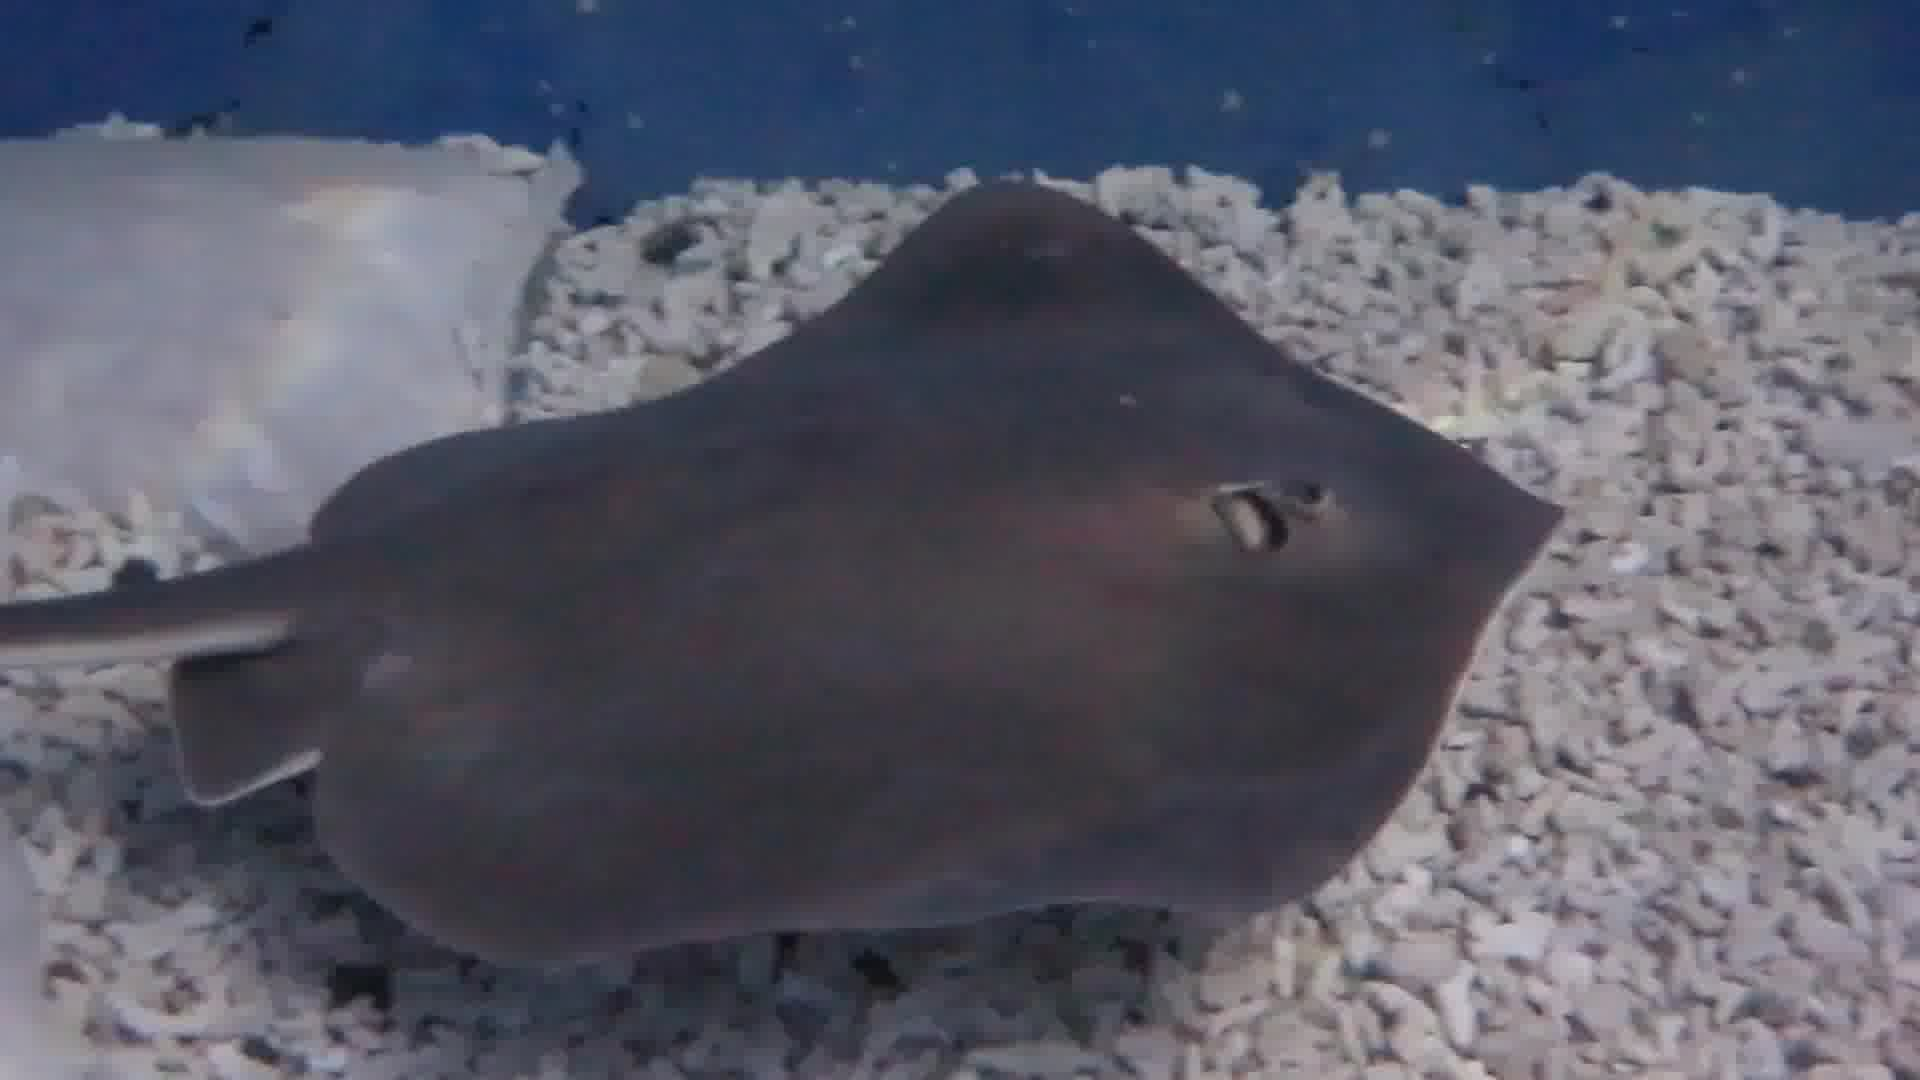Dasyatis bennetti: (194, 164, 1557, 1014)
